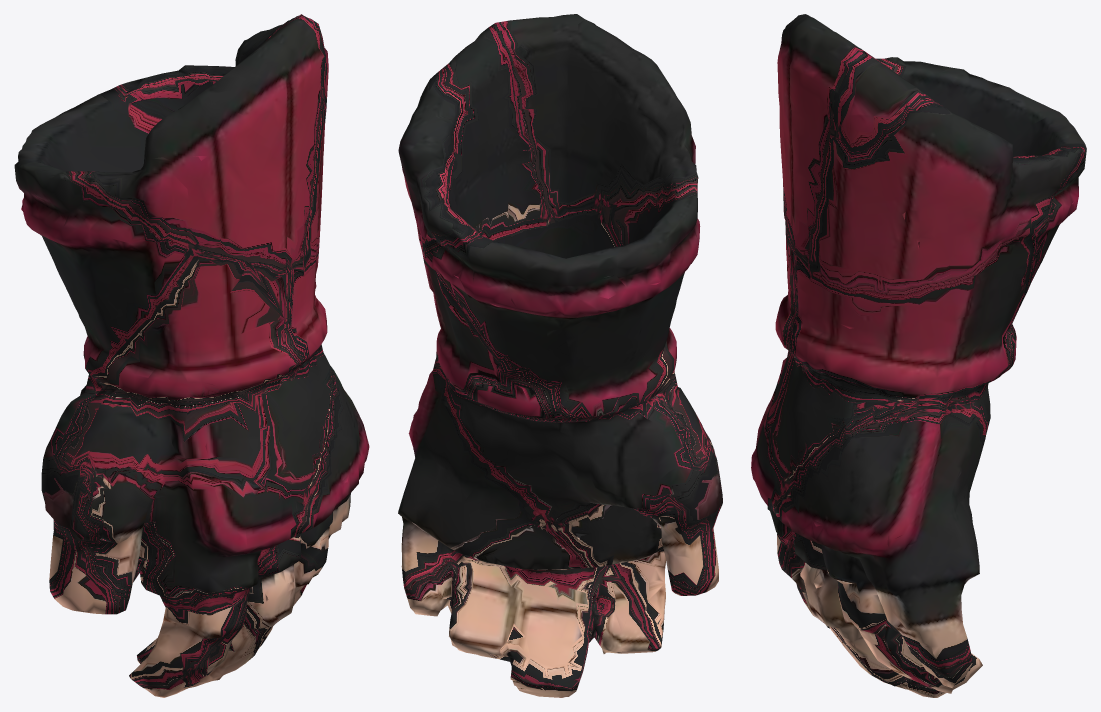
The model's file is samurai_glove_B.glb.
3 renders of one model, left to right at view 1: azimuth 30°, elevation 25°; view 2: azimuth 150°, elevation 25°; view 3: azimuth 270°, elevation 25°, orthographic. The views are drawn at different scales.
Bounding box in the file's own units: 0.1849 × 0.3804 × 0.1683.
Materials: 1 (1 with a texture image).
